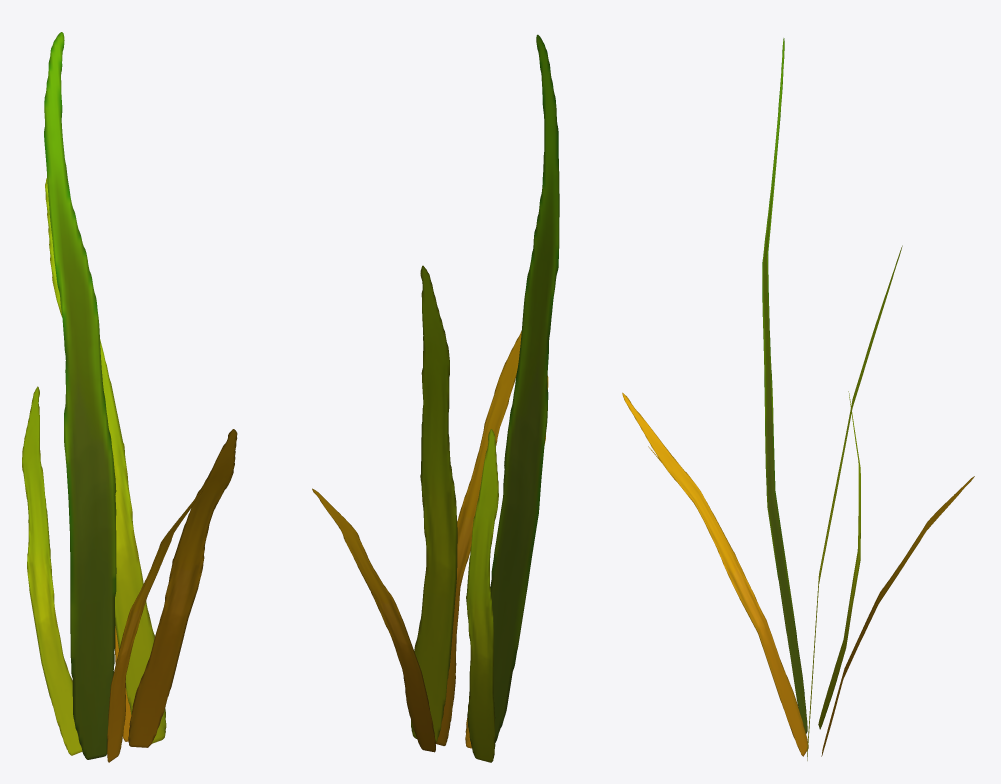
The model's file is 22_Arbustitos.fbx.
The picture shows the model from 3 angles, left to right: view 1: azimuth 30°, elevation 25°; view 2: azimuth 150°, elevation 25°; view 3: azimuth 270°, elevation 25°; orthographic projection. The views are drawn at different scales.
Parts seen in each view (by area): view 1: 22_Arbustitos; view 2: 22_Arbustitos; view 3: 22_Arbustitos.
Part boxes in pixels (left/top/right/bottom): 22_Arbustitos: left=22, top=32, right=237, bottom=762; 22_Arbustitos: left=312, top=34, right=559, bottom=762; 22_Arbustitos: left=622, top=38, right=974, bottom=760.
Size of the model in its own units: 16.49 by 69.74 by 35.15.
